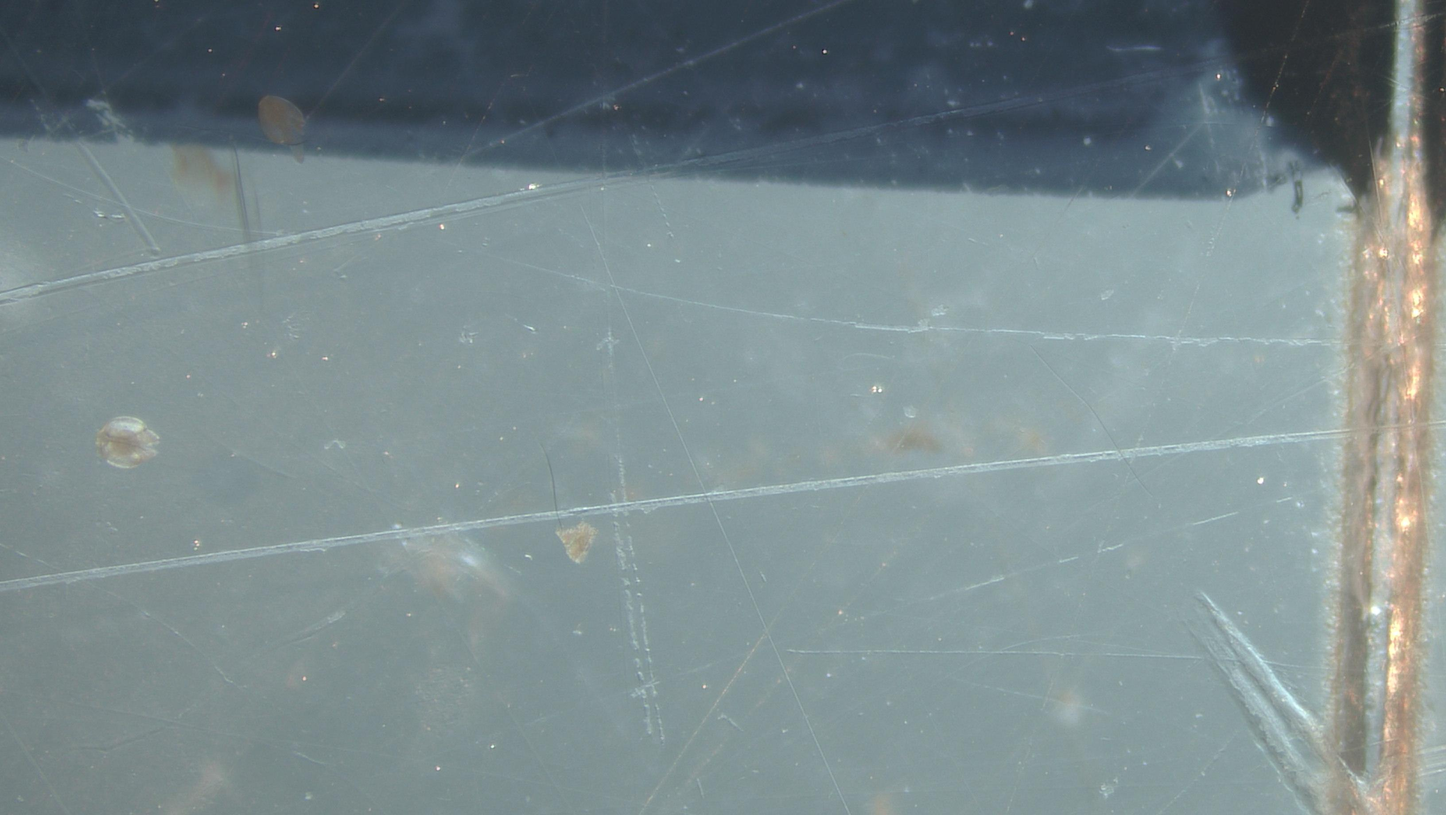live: (95, 416, 159, 469), (259, 96, 306, 162)
